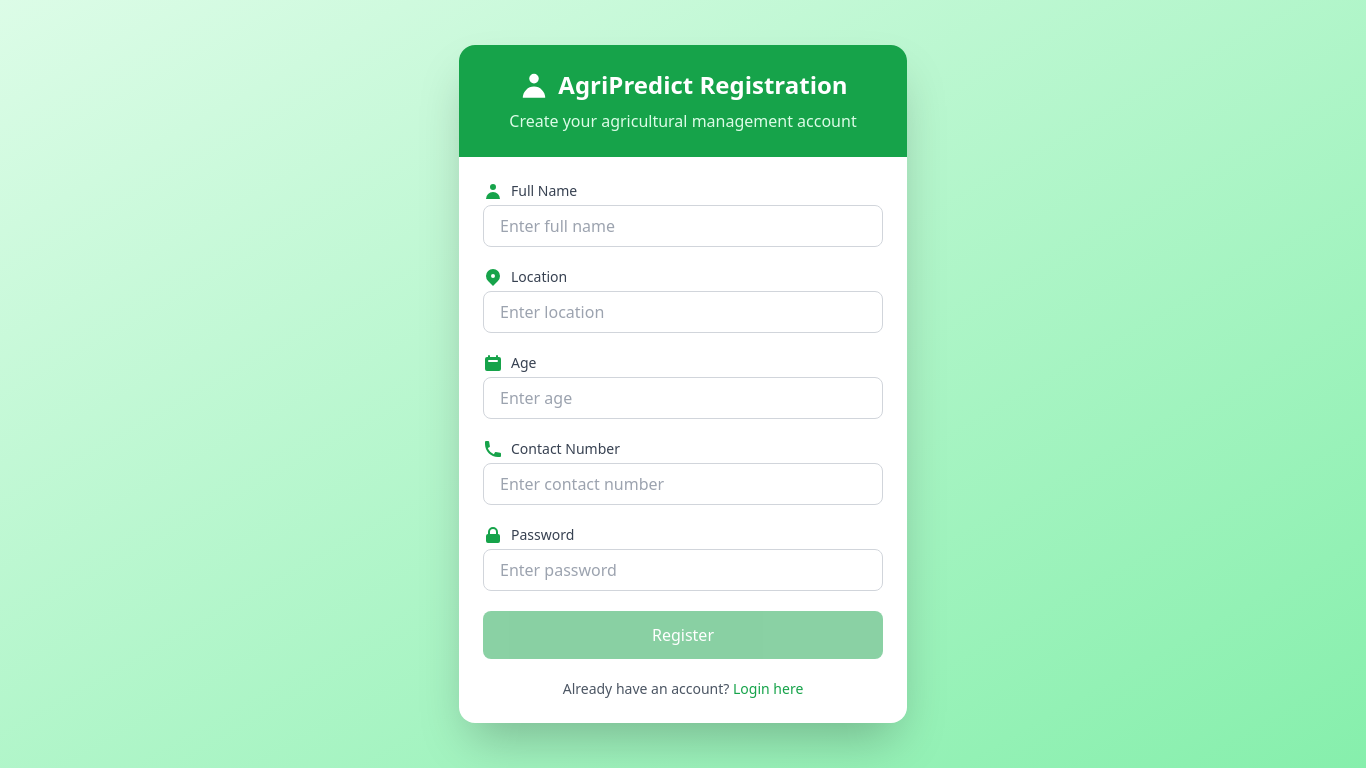
Test: Register Component › button is disabled when there are validation errors
Expected: the button "Register" is disabled, [483, 611, 883, 659]
// Fill in all fields except password
Type "John Doe" into the field with placeholder "Enter full name" at point(683, 226), box [483, 205, 883, 247]
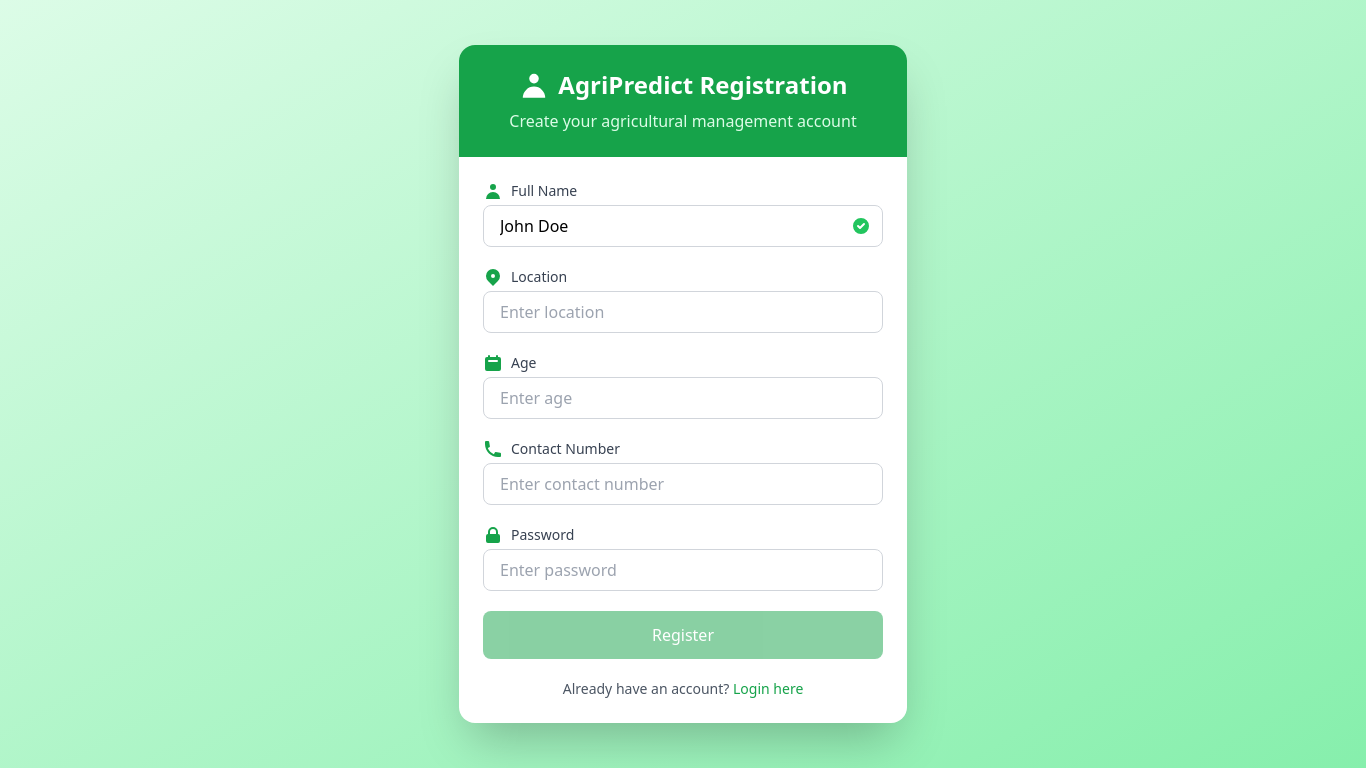
Type "Farmville" into the field with placeholder "Enter location" at point(683, 312), box [483, 291, 883, 333]
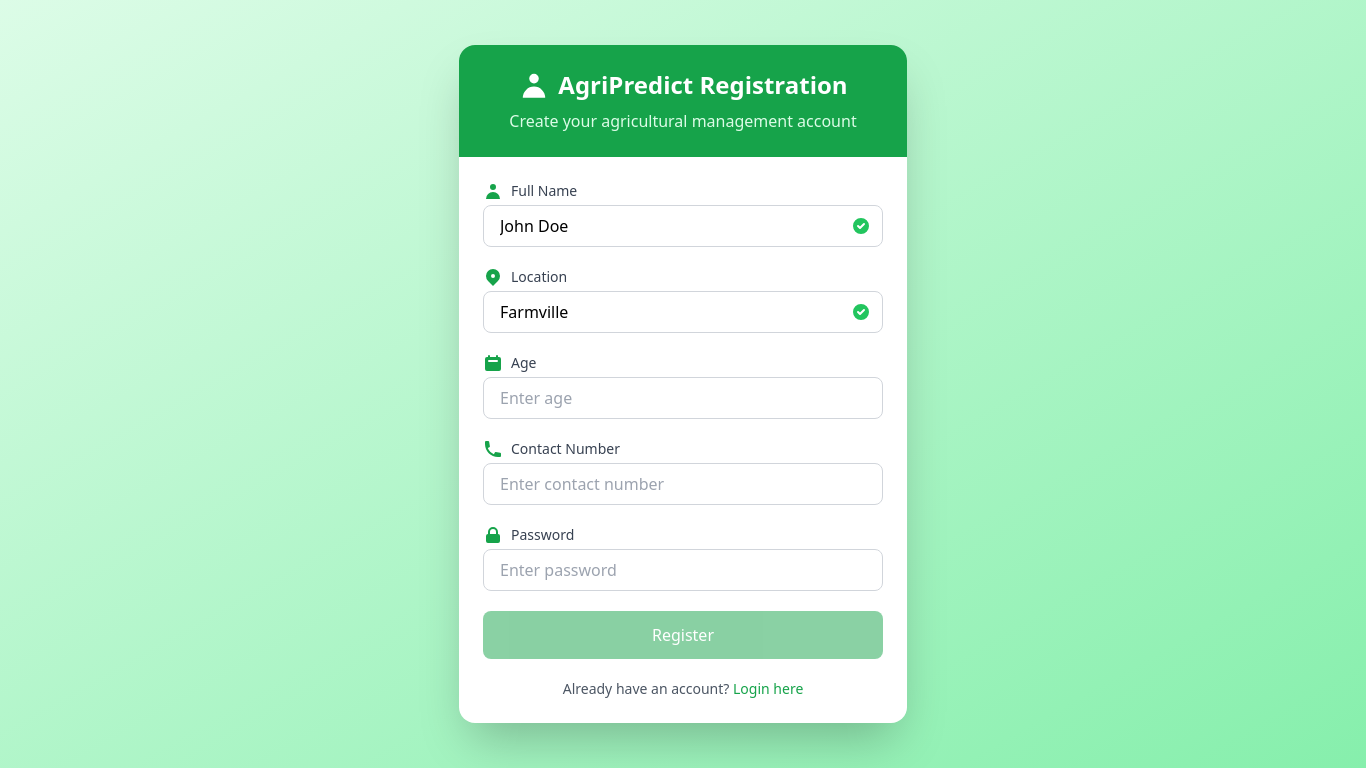
Type "30" into the number field with placeholder "Enter age" at point(683, 398), box [483, 377, 883, 419]
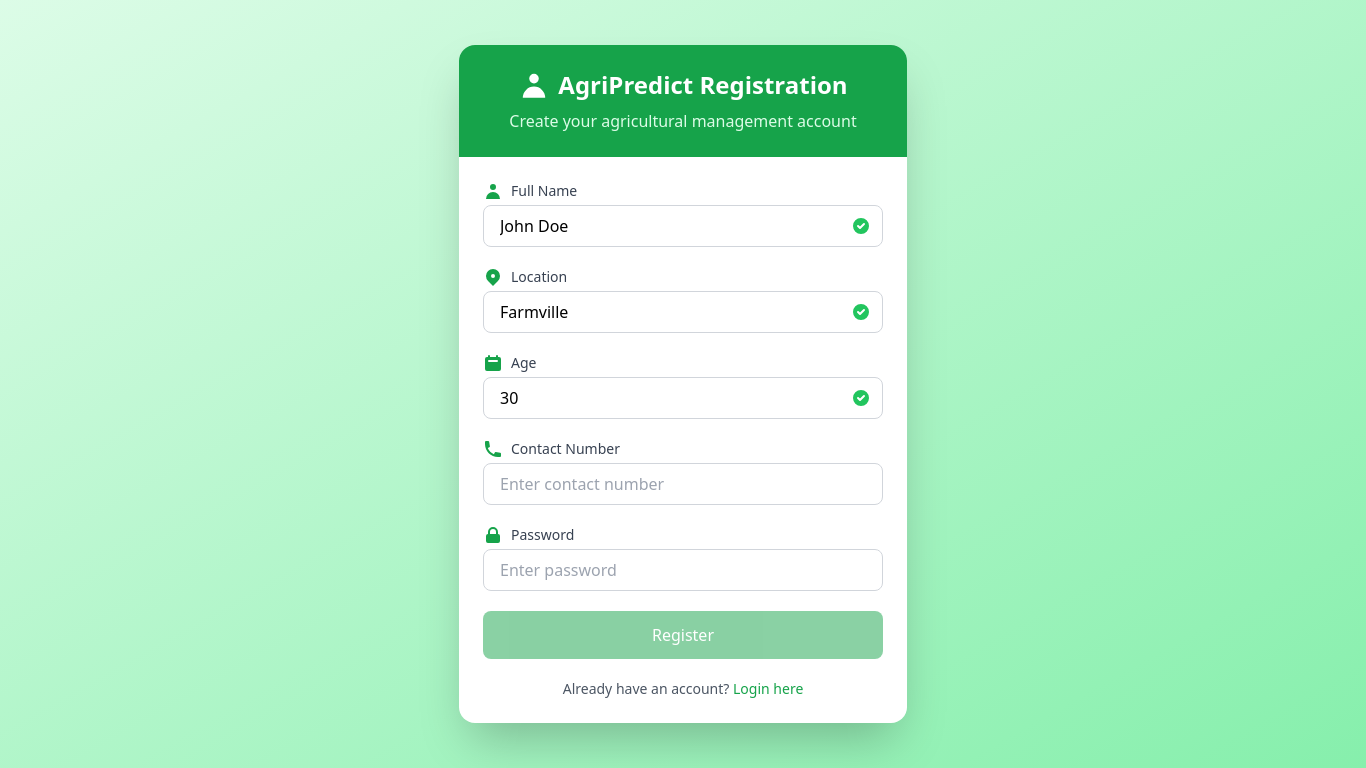
Type "9876543210" into the field with placeholder "Enter contact number" at point(683, 484), box [483, 463, 883, 505]
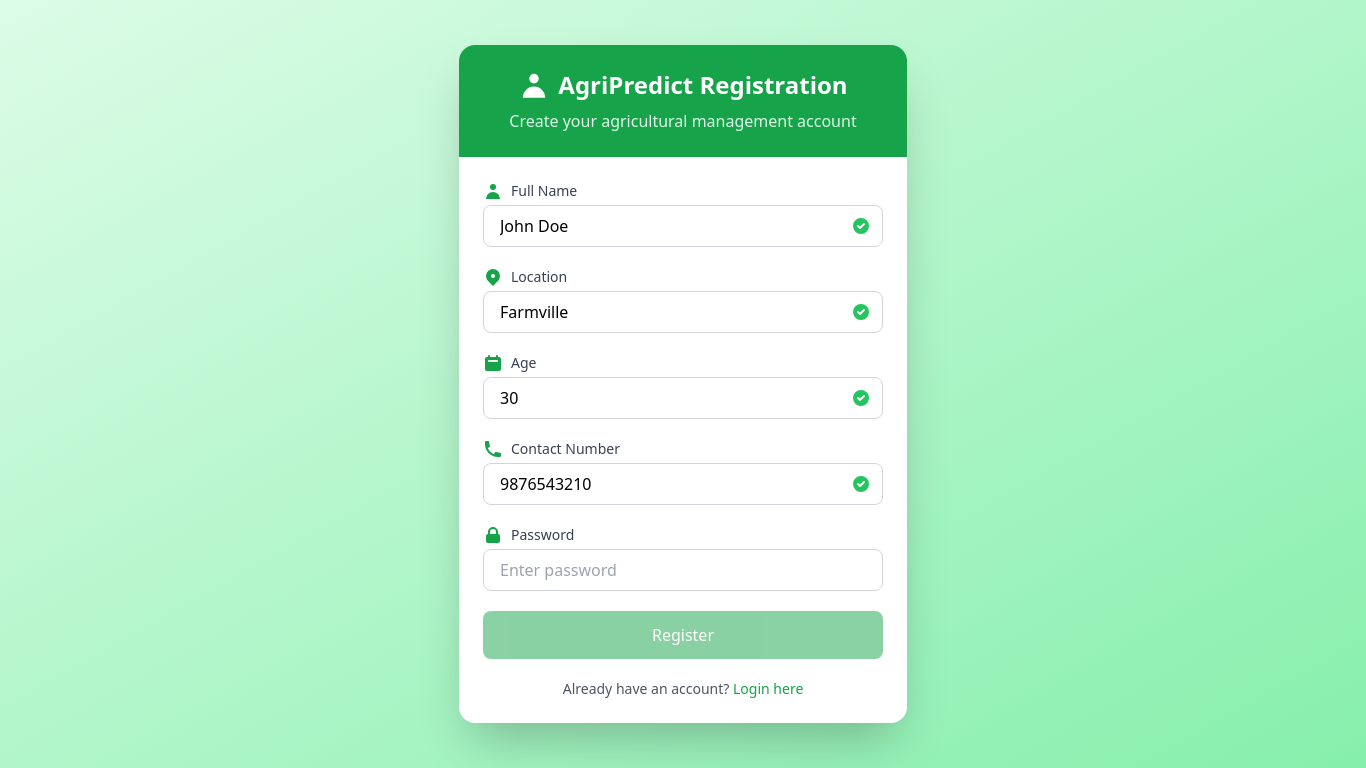
// Add an invalid password
Type "short" into the password field with placeholder "Enter password" at point(683, 570), box [483, 549, 883, 591]
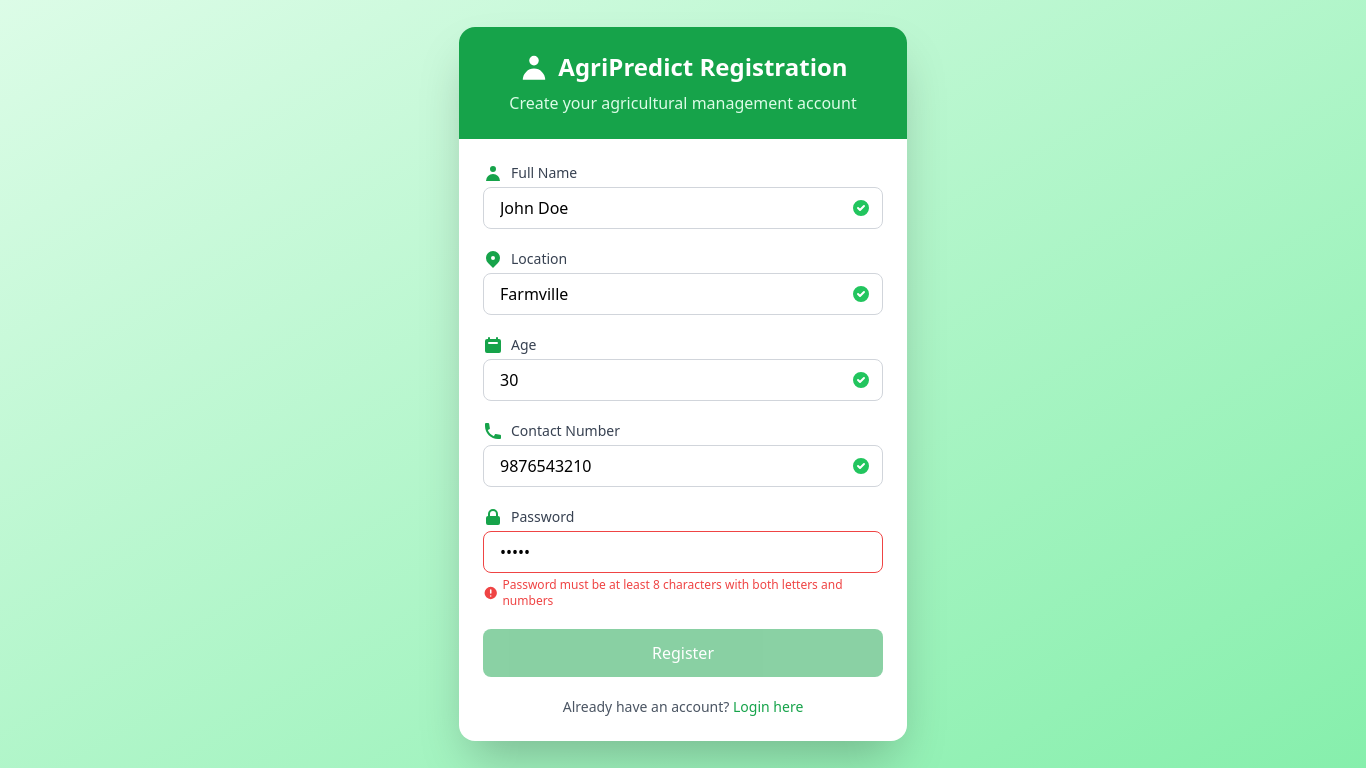
Expected: the button "Register" is disabled, [483, 629, 883, 677]
// Fix the password
Type "Password123" into the password field with placeholder "Enter password" at point(683, 552), box [483, 531, 883, 573]
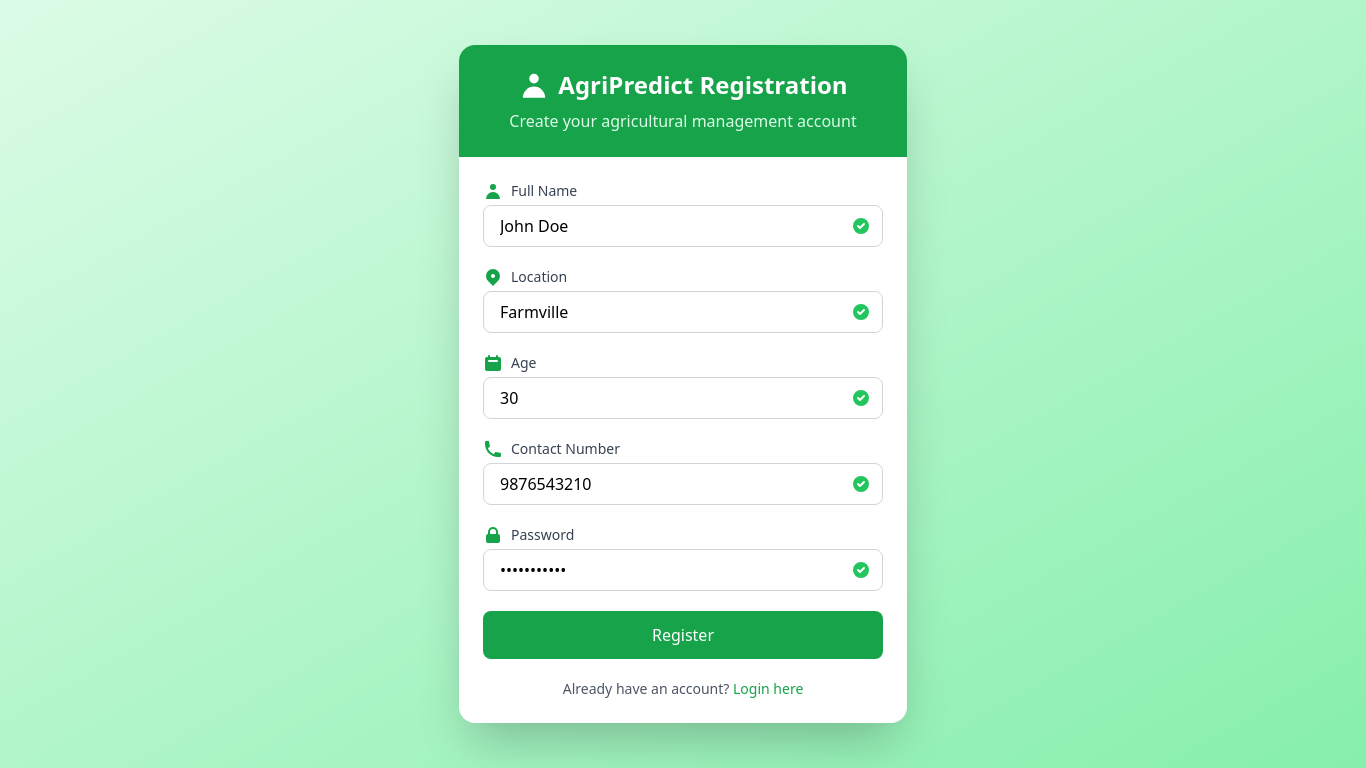
Expected: the button "Register" is enabled, [483, 611, 883, 659]
